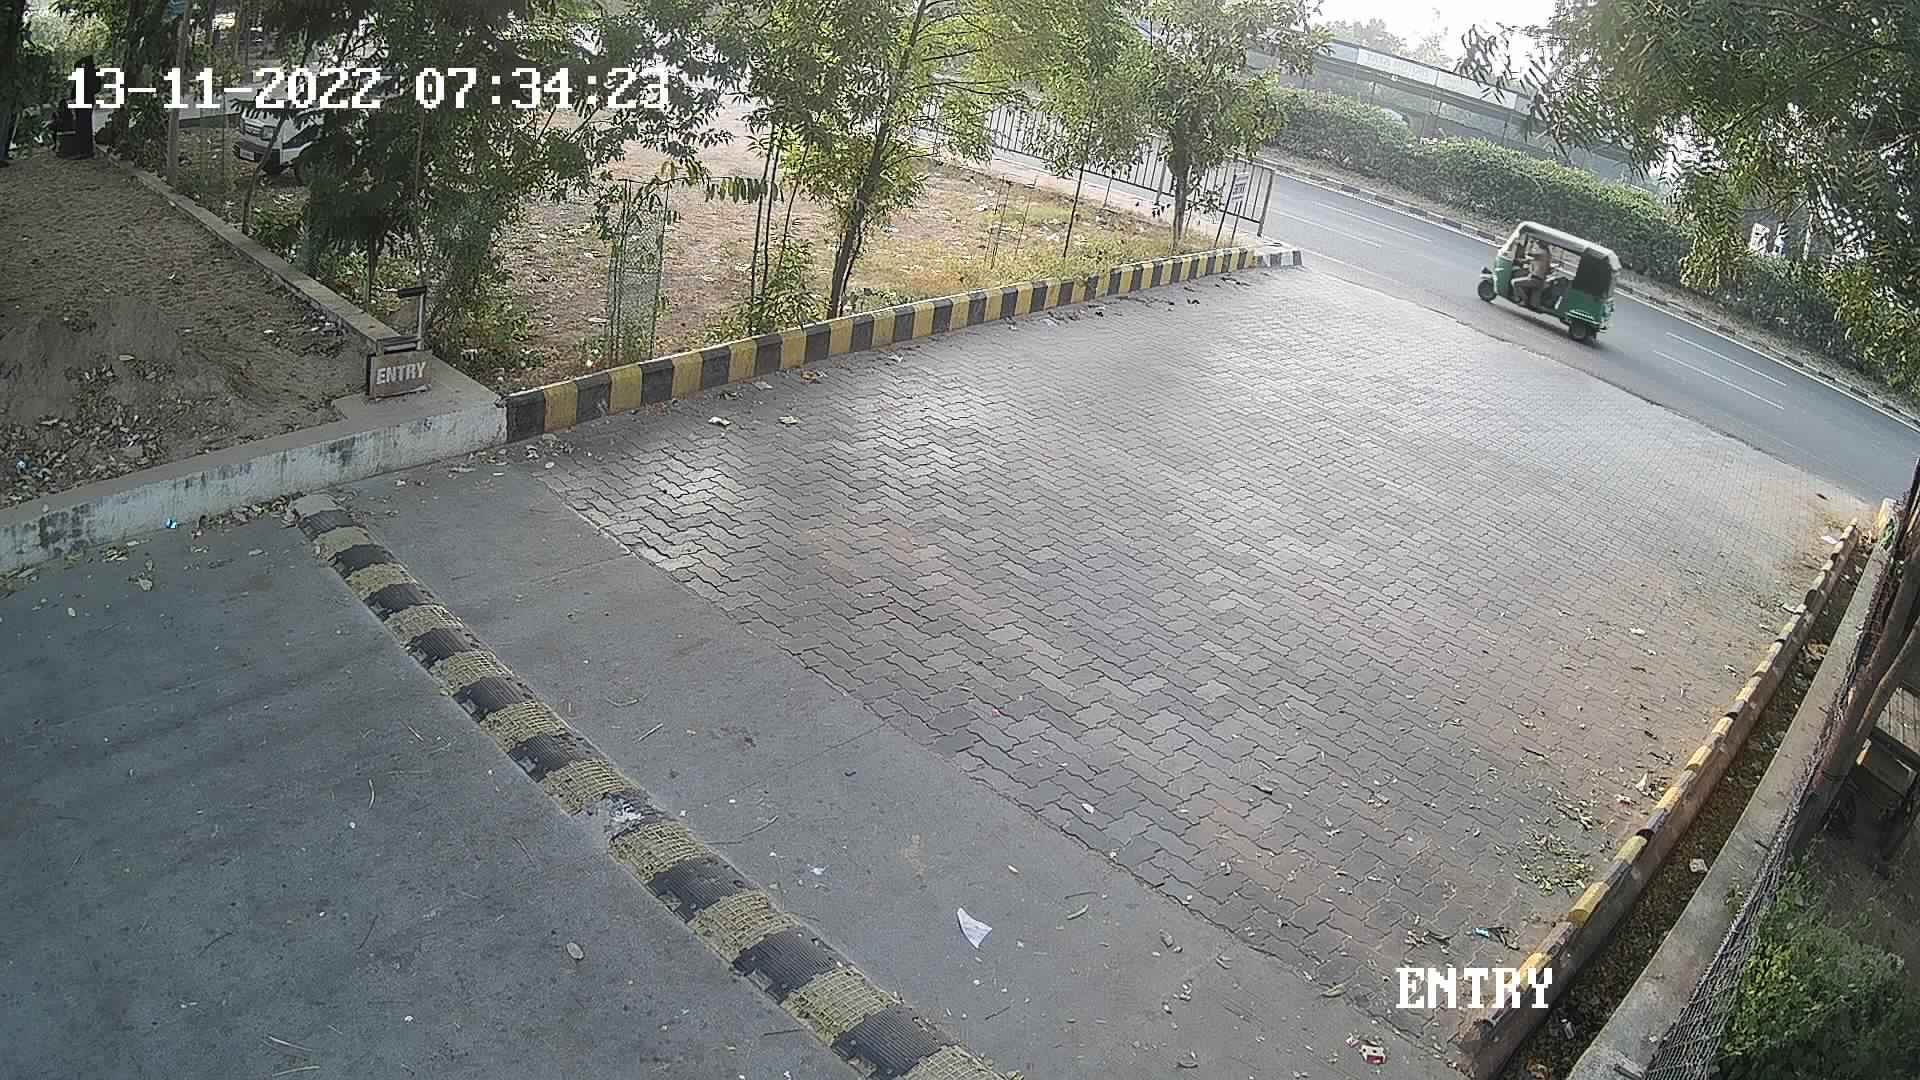Auto: (1462, 214, 1626, 353)
Car: (220, 47, 349, 193)
